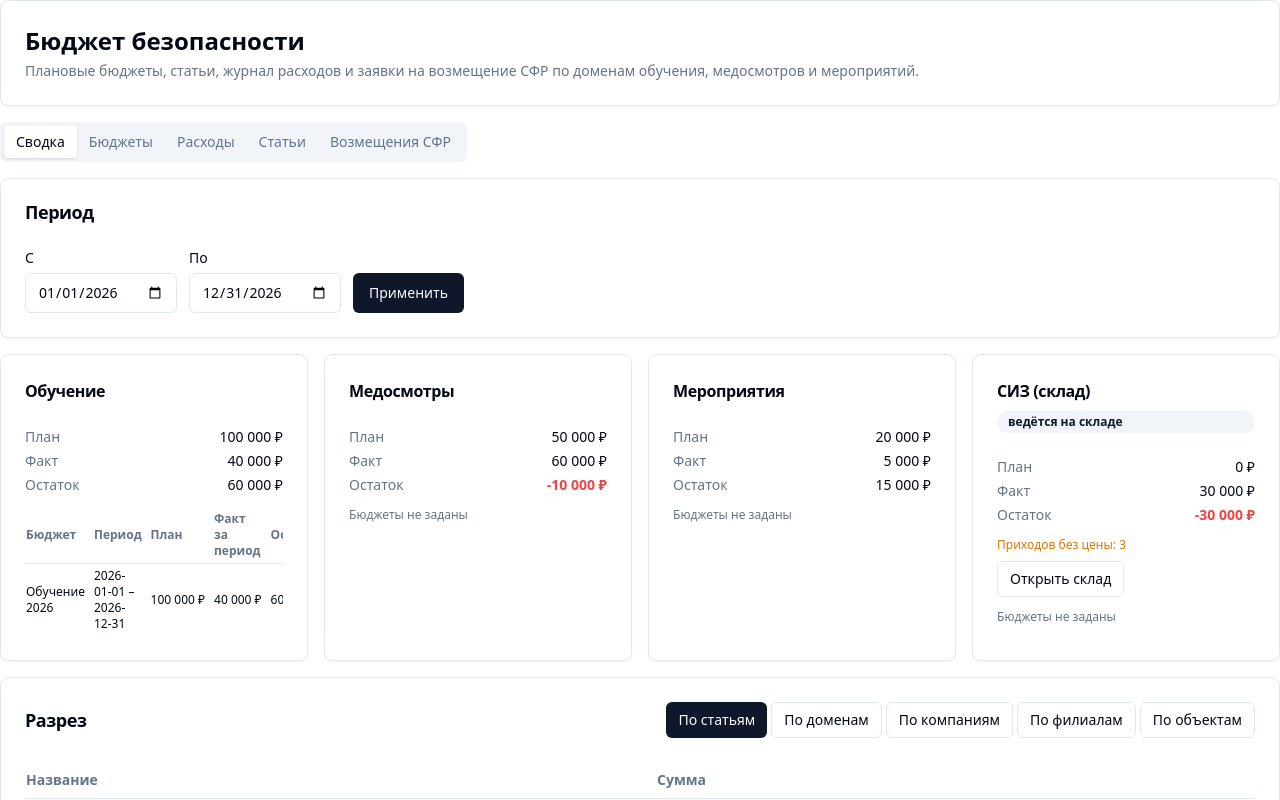
Test: BudgetPage › disables «Применить» while either date bound is empty
Check: the heading "Обучение" is shown, box [25,380,105,402]
Check: the button "Применить" is enabled, box [353,273,464,313]
Clear the date field labelled "С" at (101, 293), box [25,273,177,313]
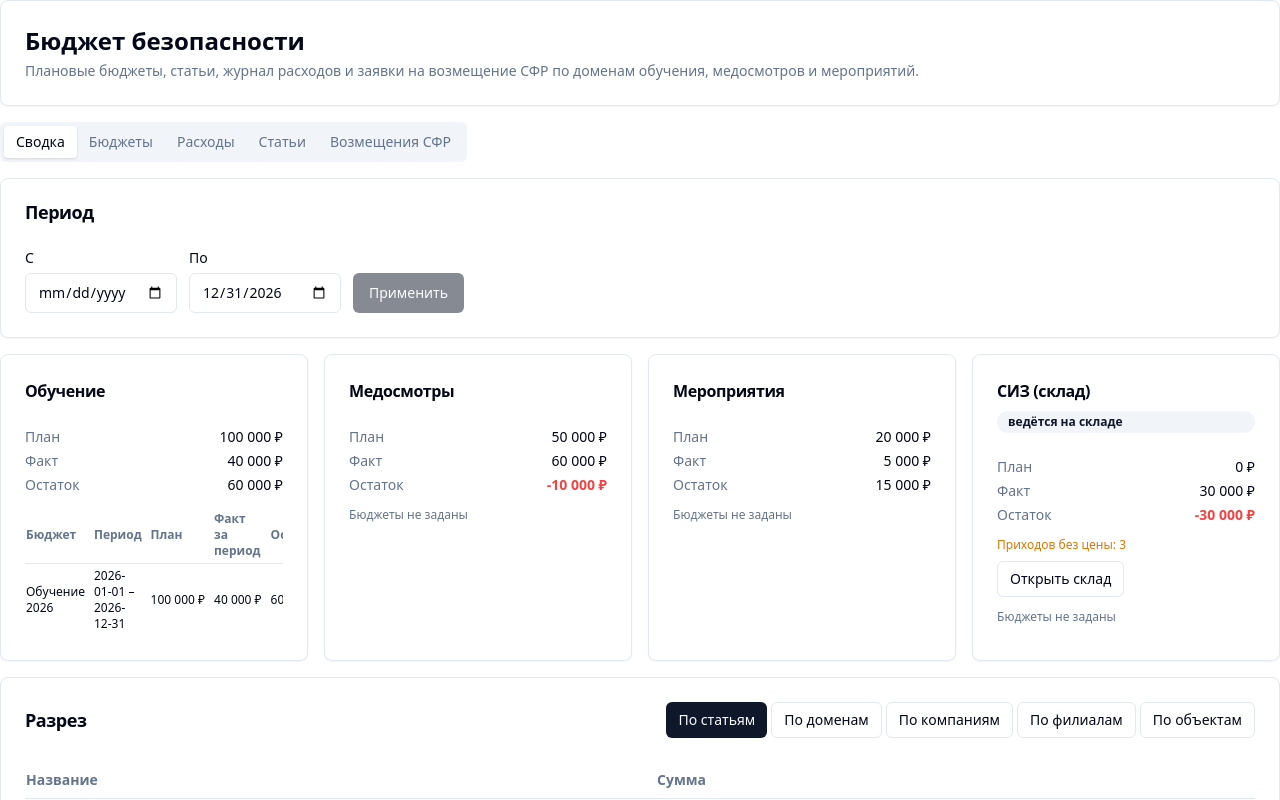
Check: the button "Применить" is disabled, box [353,273,464,313]
